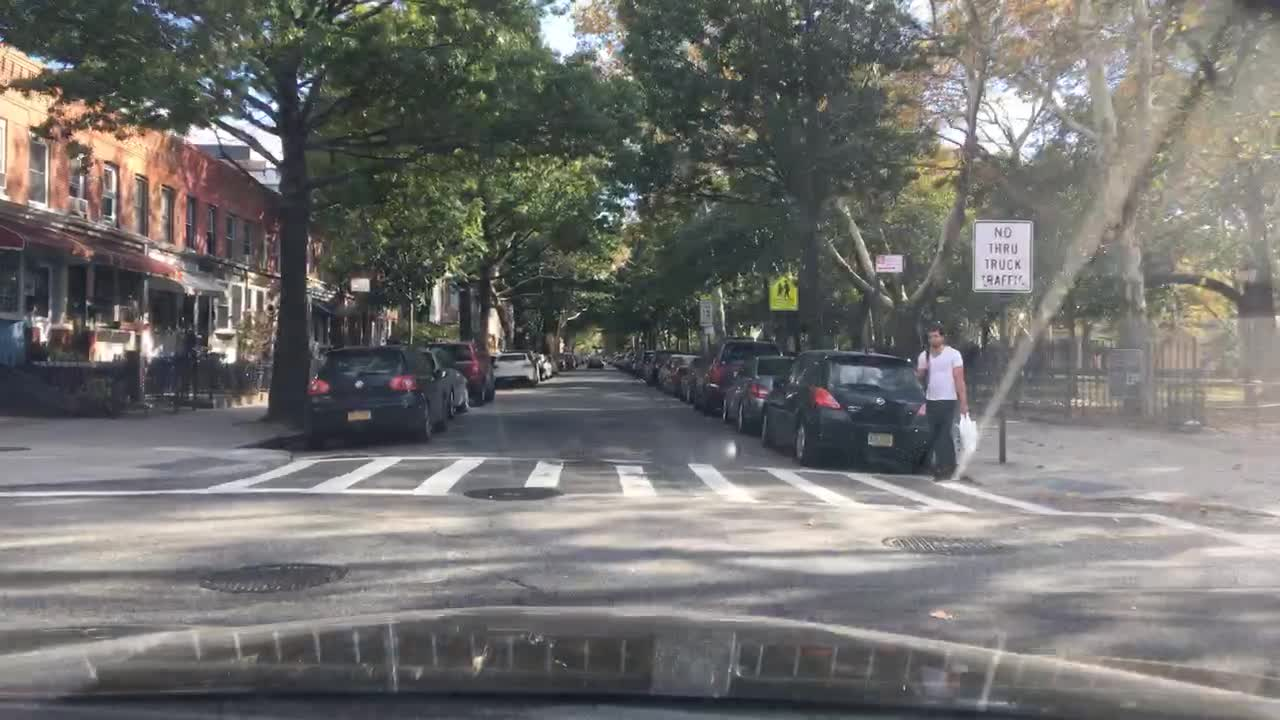car: (762, 349, 933, 471), (304, 343, 451, 446), (686, 338, 781, 414), (718, 351, 796, 435), (438, 340, 493, 404), (423, 347, 470, 416), (653, 353, 705, 399), (491, 351, 539, 387), (640, 347, 674, 381), (628, 347, 649, 374), (533, 351, 554, 378), (588, 353, 607, 374), (621, 347, 632, 370), (560, 355, 575, 370), (613, 353, 621, 368)
person: (911, 324, 968, 480)
traffic sign: (972, 217, 1033, 293), (766, 272, 797, 308), (875, 253, 901, 274), (348, 276, 369, 293)
